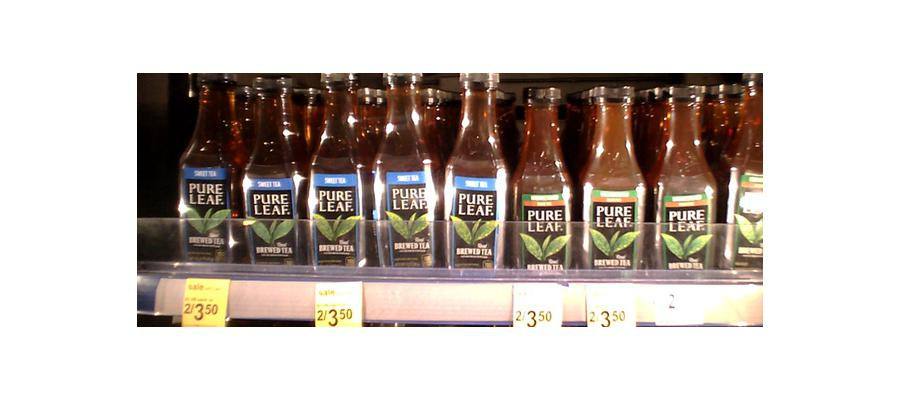bottle: (370, 69, 441, 271), (302, 75, 373, 270), (580, 81, 648, 275), (442, 75, 507, 272), (511, 80, 575, 280), (239, 70, 300, 262), (653, 89, 715, 275), (177, 72, 236, 265), (720, 71, 766, 274)
